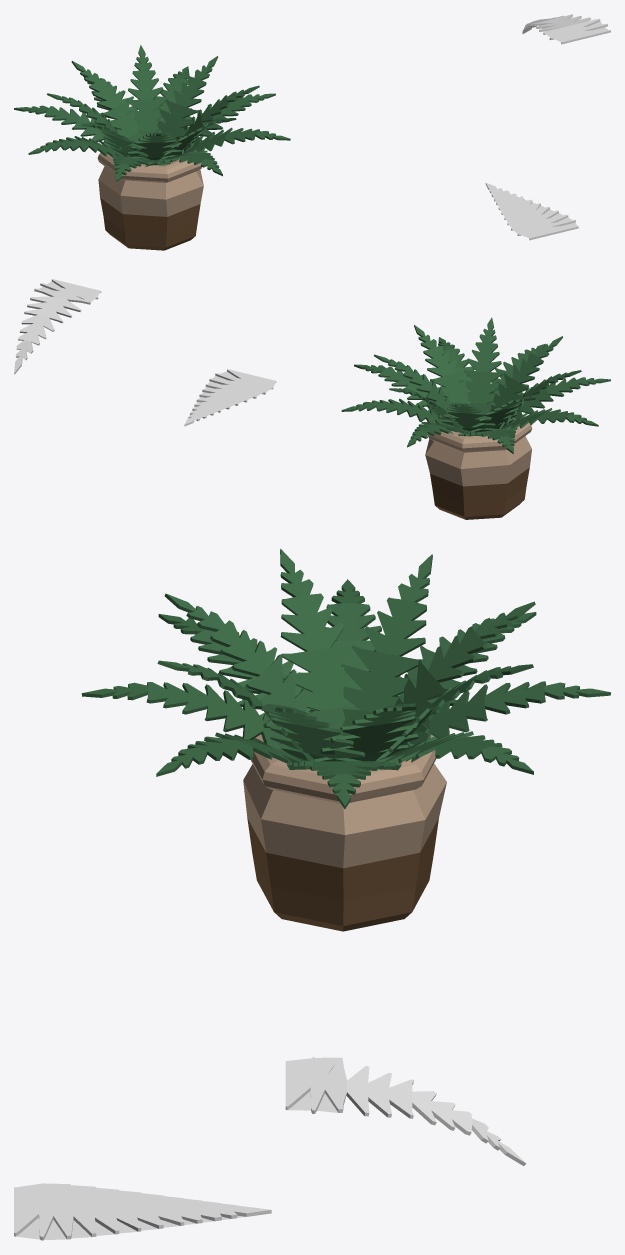
Rendered from Fern_plant.fbx.
The picture shows the model from 3 angles, top to bottom: view 1: azimuth 30°, elevation 25°; view 2: azimuth 150°, elevation 25°; view 3: azimuth 270°, elevation 25°; orthographic projection. The views are drawn at different scales.
Parts seen in each view (by area): view 1: Torus, Cylinder.001, Cylinder.011, Cylinder.010, Cylinder.012, Cylinder.002, Torus.001, Cylinder.003, Cylinder.008, Cylinder.015, Cylinder.004, Cylinder.017 (+8 smaller); view 2: Torus, Cylinder.002, Cylinder.001, Cylinder.016, Cylinder.017, Cylinder.015, Torus.001, Cylinder.005, Cylinder.006, Cylinder.010, Cylinder.012, Cylinder.004 (+8 smaller); view 3: Torus, Cylinder.001, Cylinder.002, Cylinder.014, Cylinder.013, Torus.001, Cylinder.015, Cylinder.009, Cylinder, Cylinder.012, Cylinder.017, Cylinder.010 (+8 smaller).
Boxes of the visible parts, <box> form: Torus: <box>98,166,203,250</box>; Cylinder.001: <box>485,183,578,240</box>; Cylinder.011: <box>125,45,169,138</box>; Cylinder.010: <box>155,56,217,150</box>; Cylinder.012: <box>71,61,142,151</box>; Cylinder.002: <box>522,14,610,44</box>; Torus.001: <box>97,137,201,182</box>; Cylinder.003: <box>14,105,111,146</box>; Cylinder.008: <box>183,127,290,160</box>; Cylinder.015: <box>127,132,181,160</box>; Cylinder.004: <box>28,136,124,158</box>; Cylinder.017: <box>176,85,259,155</box>; Torus: <box>425,436,531,519</box>; Cylinder.002: <box>14,279,101,374</box>; Cylinder.001: <box>184,369,276,426</box>; Cylinder.016: <box>459,317,505,417</box>; Cylinder.017: <box>414,325,471,404</box>; Cylinder.015: <box>487,336,562,421</box>; Torus.001: <box>427,418,532,452</box>; Cylinder.005: <box>502,377,610,428</box>; Cylinder.006: <box>341,398,453,434</box>; Cylinder.010: <box>374,354,453,425</box>; Cylinder.012: <box>441,403,498,431</box>; Cylinder.004: <box>502,408,598,428</box>; Torus: <box>243,763,446,931</box>; Cylinder.001: <box>14,1183,271,1240</box>; Cylinder.002: <box>285,1057,526,1165</box>; Cylinder.014: <box>280,548,365,737</box>; Cylinder.013: <box>340,554,432,735</box>; Torus.001: <box>250,734,435,803</box>; Cylinder.015: <box>164,593,317,746</box>; Cylinder.009: <box>81,682,285,751</box>; Cylinder: <box>406,681,610,762</box>; Cylinder.012: <box>394,601,535,746</box>; Cylinder.017: <box>261,703,365,761</box>; Cylinder.010: <box>310,703,418,761</box>.
Size of the model in its own units: 1124 by 295 by 540.
